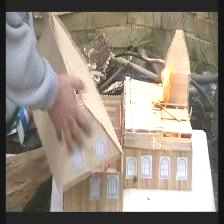fire: (153, 66, 178, 107)
